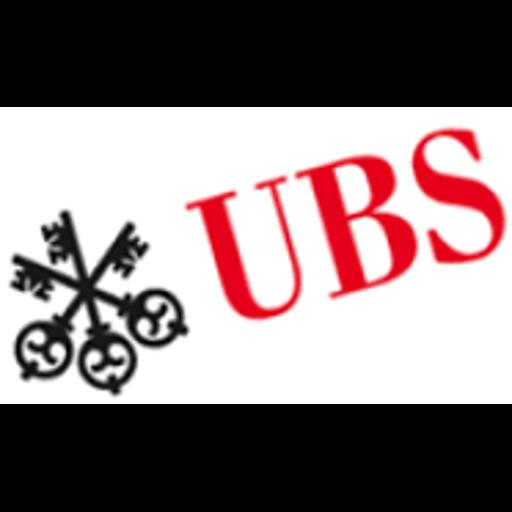UBS AG: (0, 107, 512, 404)
